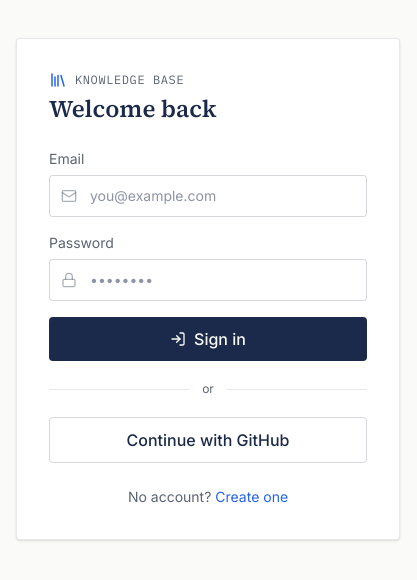
Login page › shows an error message when login fails
Type "test@example.com" into the field with placeholder "you@example.com".
click(208, 196); type("test@example.com")  # box x1=49 y1=175 x2=367 y2=217
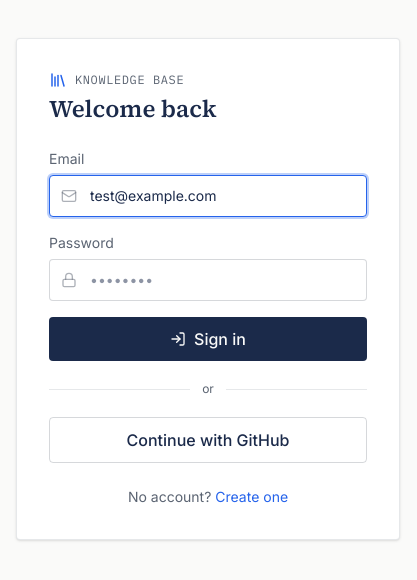
Type "wrongpass" into the password field with placeholder "••••••••".
click(208, 280); type("wrongpass")  # box x1=49 y1=259 x2=367 y2=301
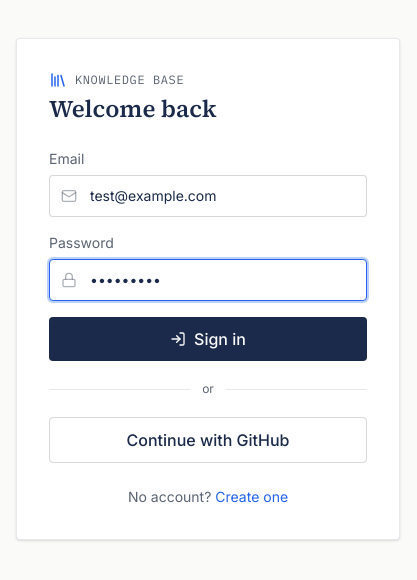
Click the button "Sign in".
click(208, 339)  # box x1=49 y1=317 x2=367 y2=361
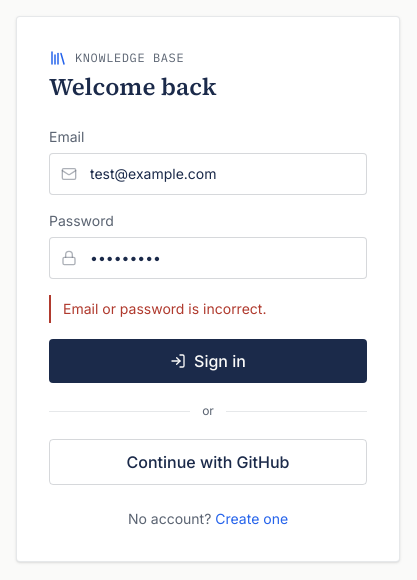
Result: the text "Email or password is incorrect." is shown at x1=49 y1=295 x2=367 y2=323
